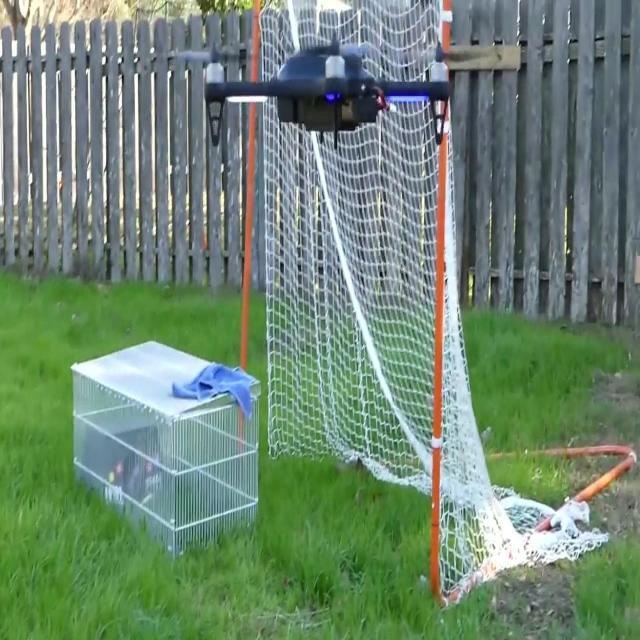drone: (198, 30, 456, 150)
